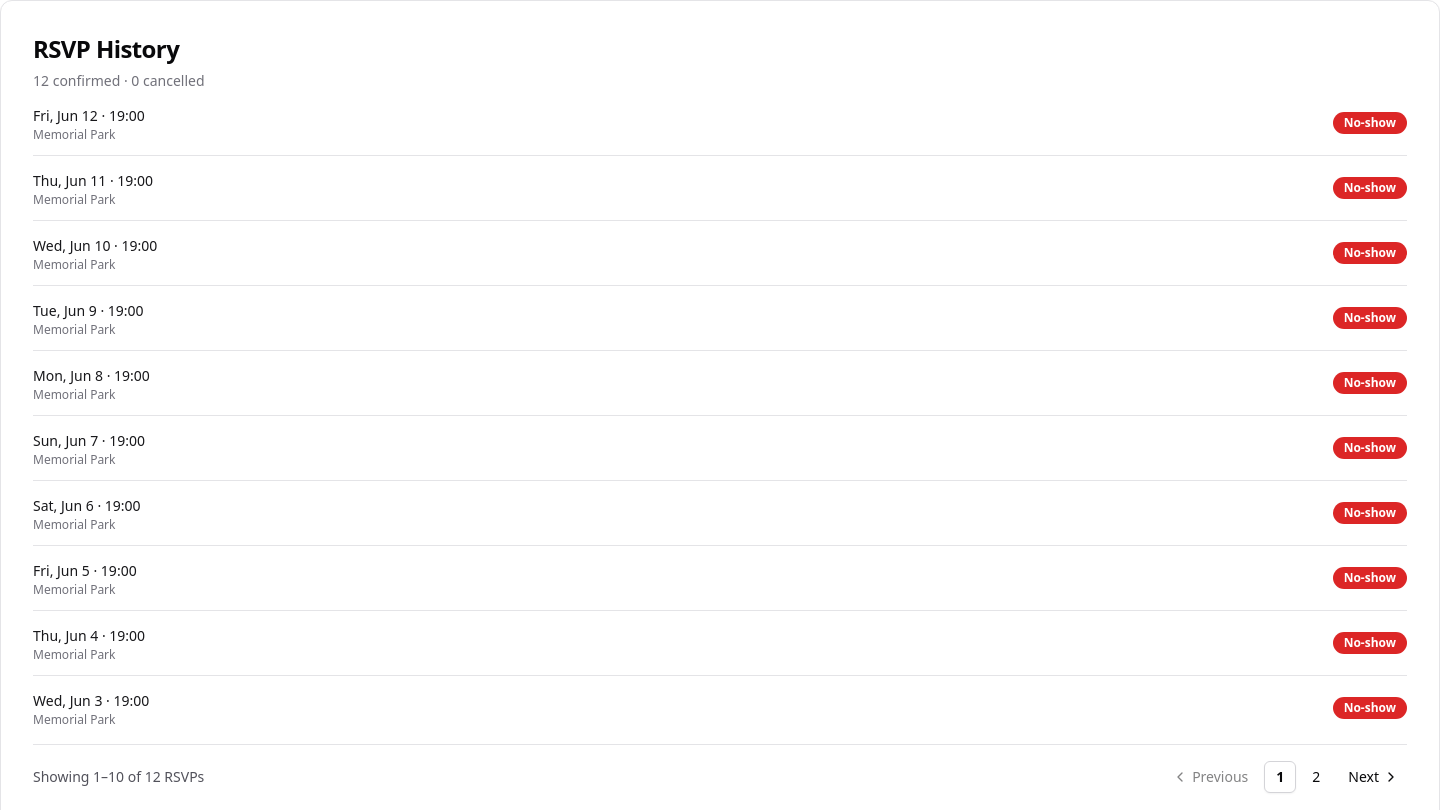
PlayerRsvpHistory › shows 10 RSVPs per page and pages through the rest
Check: the text "Showing 1–10 of 12 RSVPs" is shown, box [33, 767, 204, 787]
Check: the button with aria-label "Go to previous page" is disabled, box [1164, 761, 1260, 793]
Click the button with aria-label "Go to next page". click: (1372, 777)
box: [1336, 761, 1407, 793]
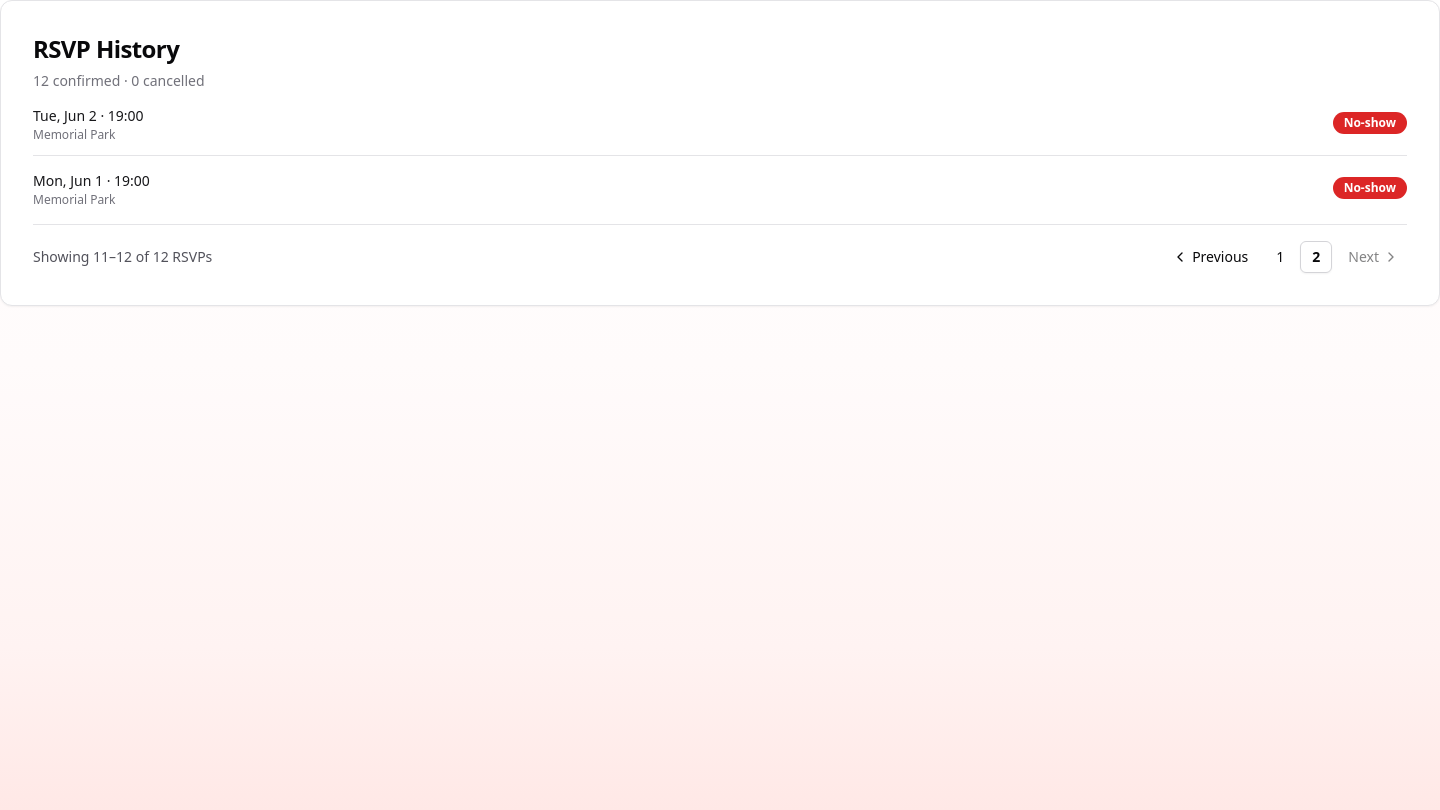
Check: the text "Showing 11–12 of 12 RSVPs" is shown, box [33, 247, 212, 267]
Check: the button with aria-label "Go to next page" is disabled, box [1336, 241, 1407, 273]
